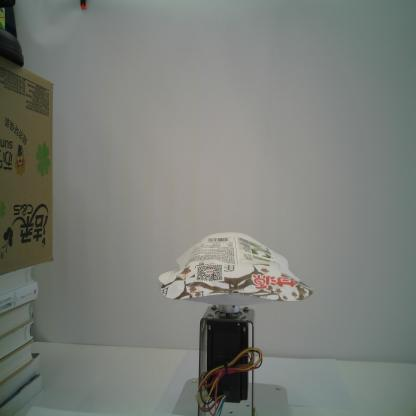Dried Fruit: (159, 230, 315, 303)
